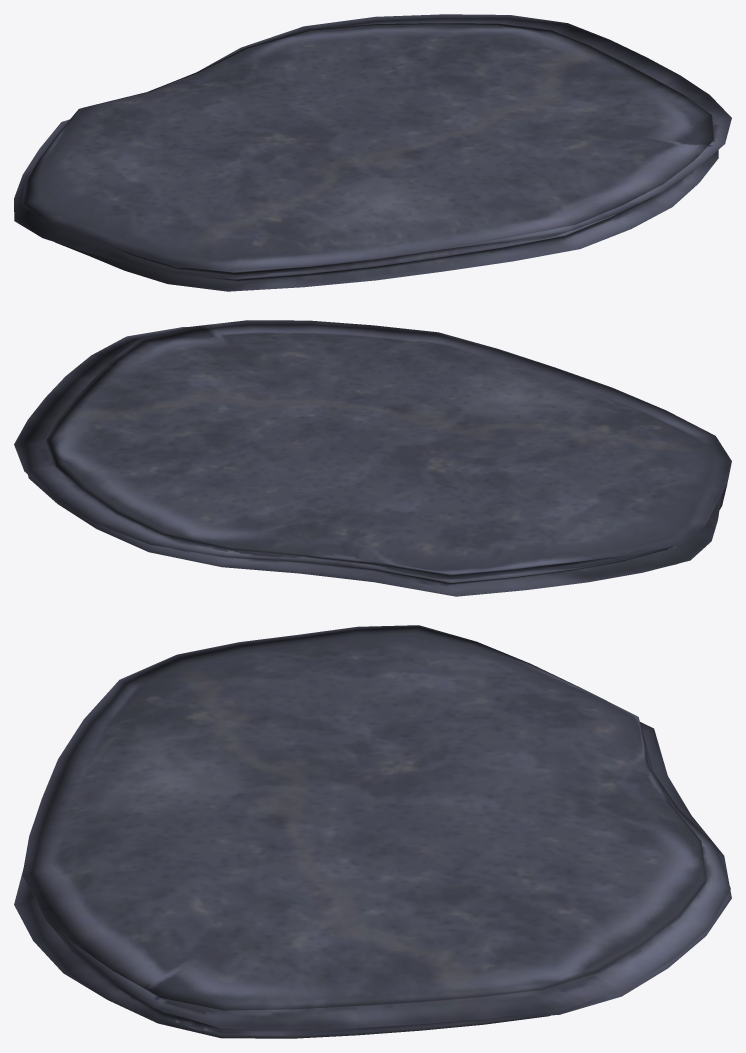
File: thin_shale_08.glb
The picture shows the model from 3 angles, top to bottom: view 1: azimuth 30°, elevation 25°; view 2: azimuth 150°, elevation 25°; view 3: azimuth 270°, elevation 25°; orthographic projection. The views are drawn at different scales.
Parts seen in each view (by area): view 1: thin_shale_08; view 2: thin_shale_08; view 3: thin_shale_08.
Part boxes in pixels (x1=…): thin_shale_08: x1=14, y1=14, x2=731, y2=291; thin_shale_08: x1=14, y1=320, x2=731, y2=596; thin_shale_08: x1=14, y1=625, x2=731, y2=1038.
Bounding box in the file's own units: 0.0801 × 0.00546 × 0.0609.
Materials: 1 (1 with a texture image).
